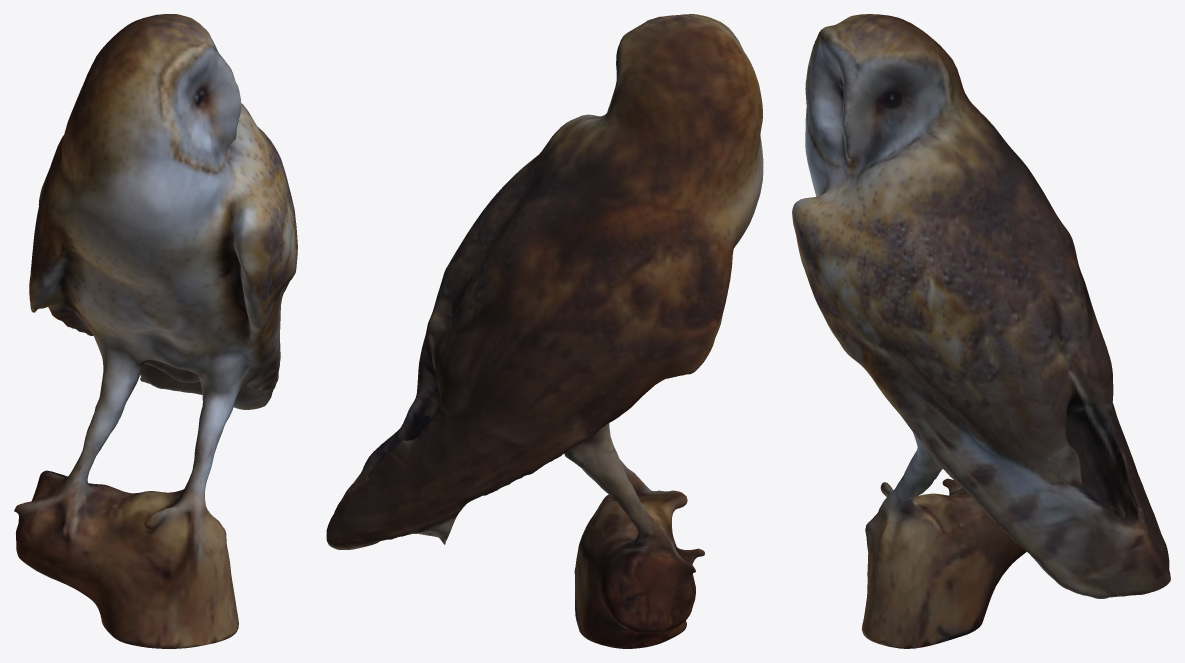
File: owl.glb
3 views of the same model, side by side, from view 1: azimuth 30°, elevation 25°; view 2: azimuth 150°, elevation 25°; view 3: azimuth 270°, elevation 25° (orthographic). The views are drawn at different scales.
Parts seen in each view (by area): view 1: material0-material; view 2: material0-material; view 3: material0-material.
Part boxes in pixels (<box>): material0-material: <box>14,14,297,648</box>; material0-material: <box>326,14,763,648</box>; material0-material: <box>792,14,1170,648</box>.
Size of the model in its own units: 0.1917 by 0.3749 by 0.2183.
Materials: 1 (1 with a texture image).
